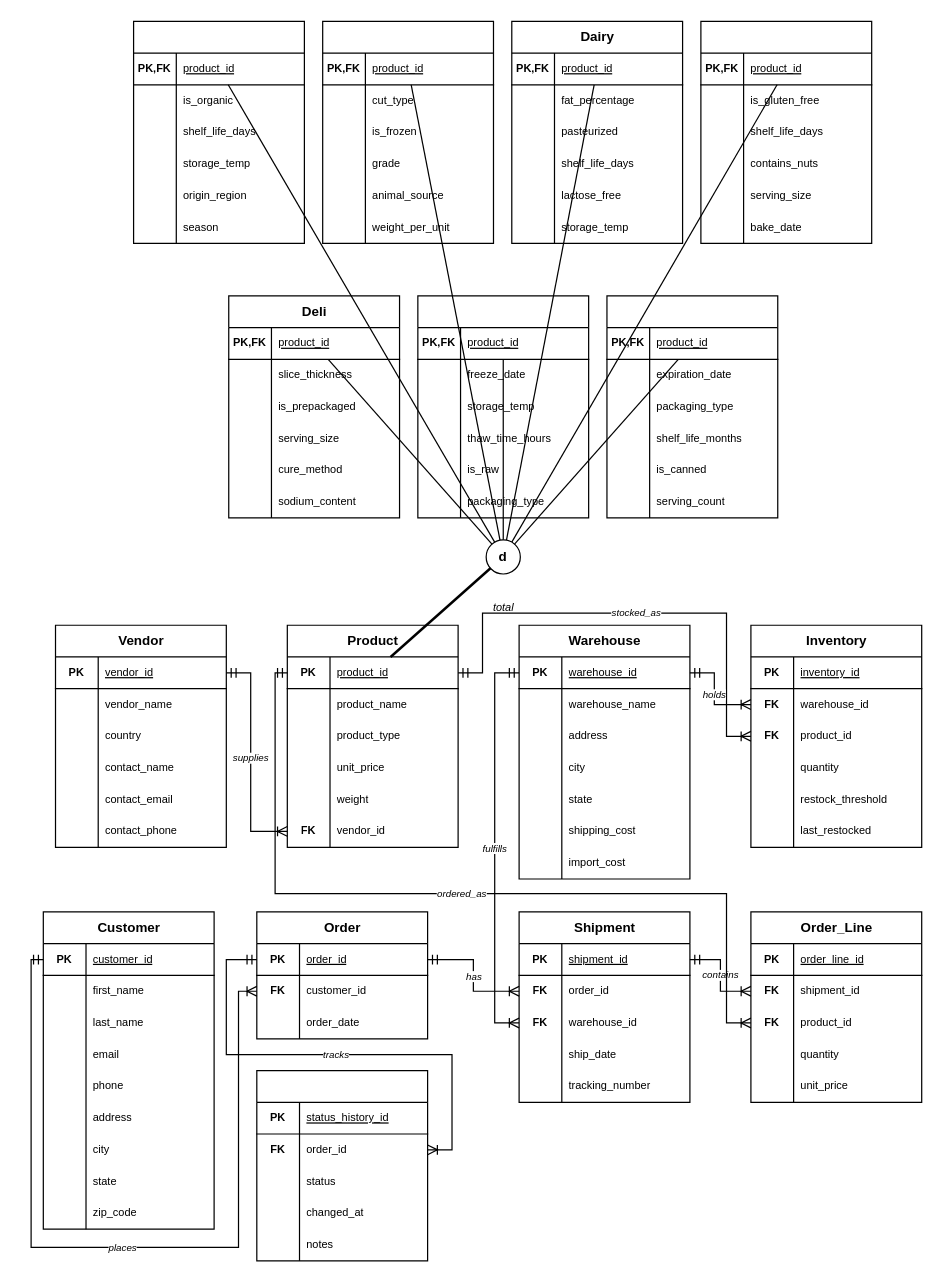
Some shapes in this 943 by 1282 pixel diagram are drawn without their labels. Each missing label, with the box of its shape:
Bakery: (700, 20, 872, 243)
Frozen: (417, 295, 589, 518)
Meat: (321, 20, 493, 243)
Order_Status_History: (256, 1069, 428, 1261)
Produce: (132, 20, 304, 243)
Shelf_Stable: (606, 295, 778, 518)
